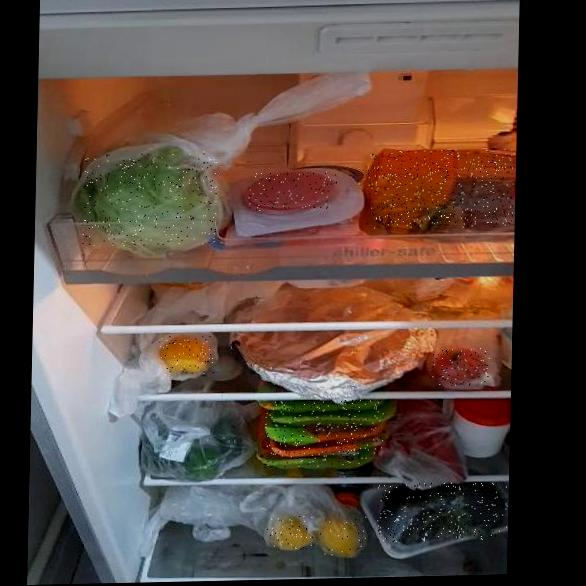bread: (367, 148, 515, 230)
broccoli: (377, 482, 508, 542)
chicken: (264, 399, 384, 468)
lemon: (158, 335, 215, 375), (319, 516, 368, 556), (267, 515, 314, 550)
lettuce: (82, 151, 218, 247)
salami: (247, 171, 337, 212)
tomato: (430, 348, 490, 386)
